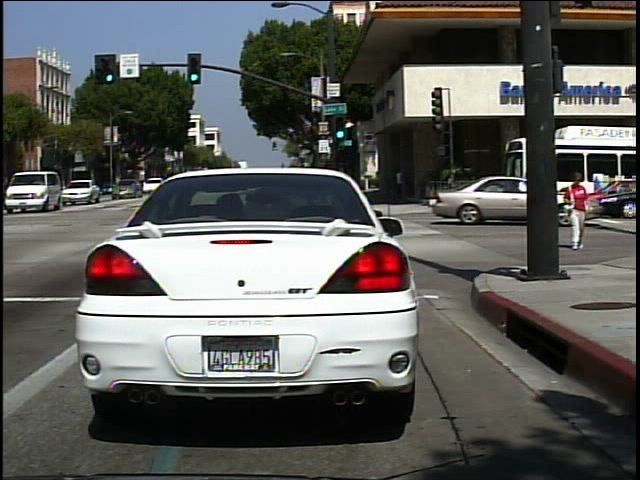person: (561, 169, 592, 252), (392, 166, 410, 204)
